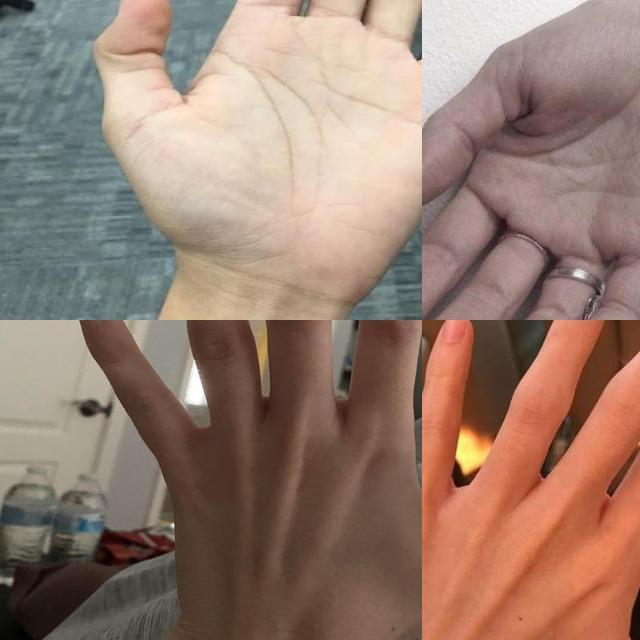no-gloves: (65, 320, 422, 640), (94, 0, 422, 320), (422, 0, 640, 320), (422, 320, 640, 640)
